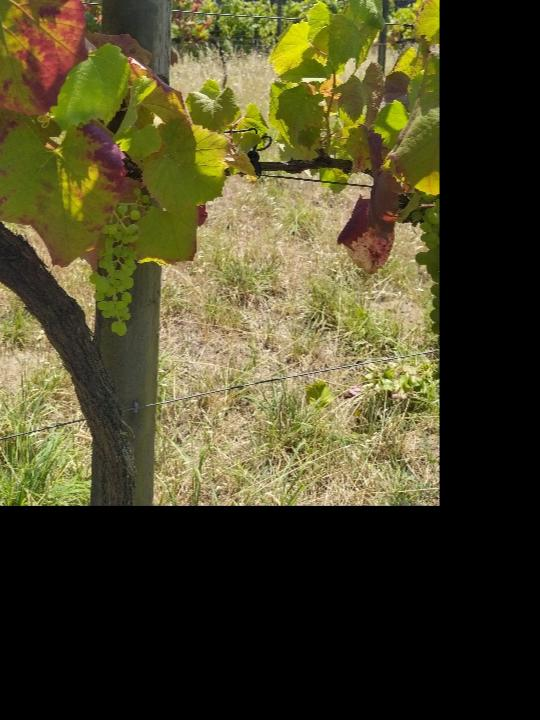grape: (88, 186, 146, 337)
